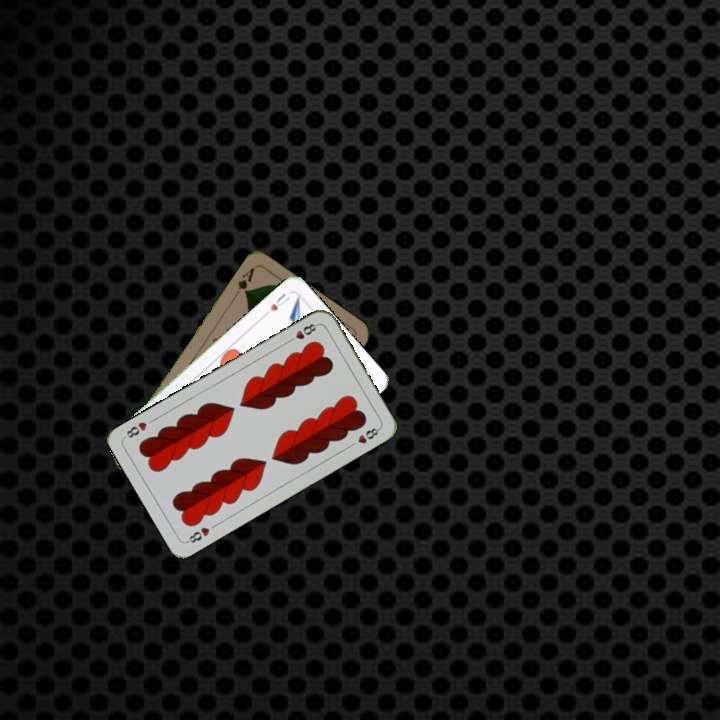GA: (230, 263, 257, 300)
H8: (284, 319, 321, 345), (183, 523, 212, 546)
HU: (266, 289, 292, 314)
